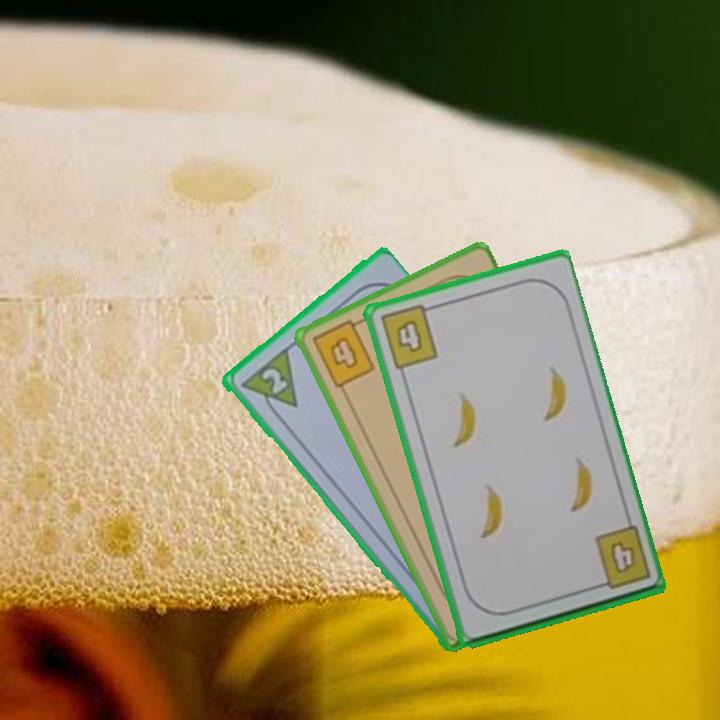2p: (236, 344, 301, 424)
4b: (308, 314, 378, 391), (376, 301, 441, 372), (589, 522, 653, 593)
